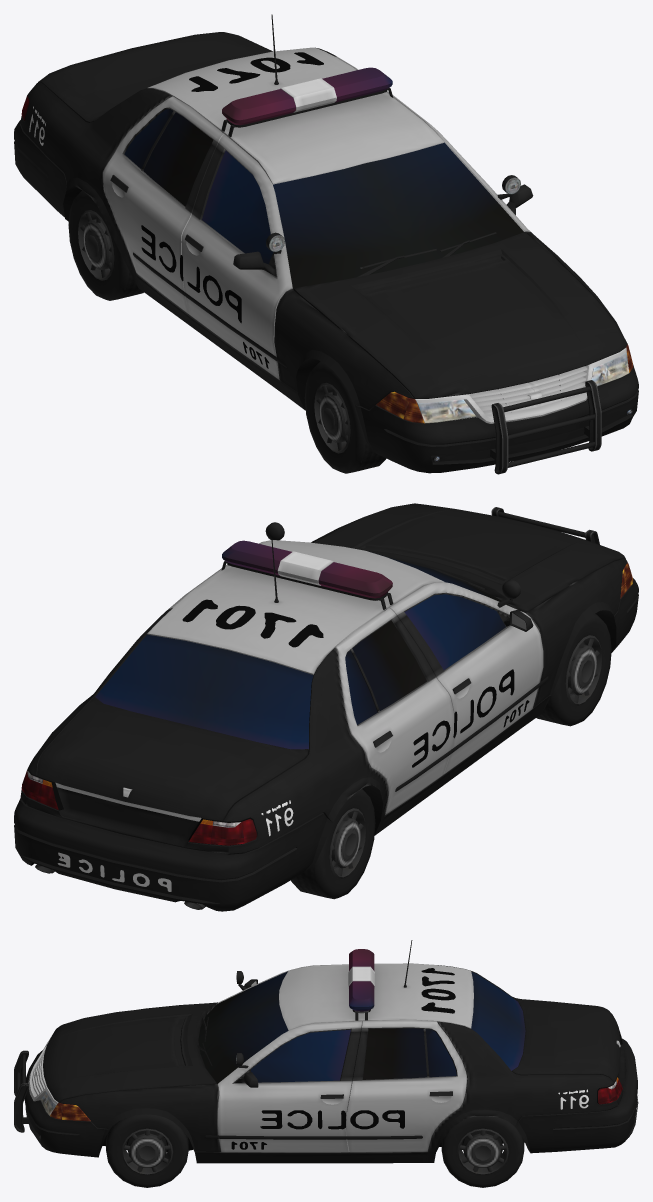
Rendered from police.glb.
The picture shows the model from 3 angles, top to bottom: view 1: azimuth 30°, elevation 25°; view 2: azimuth 150°, elevation 25°; view 3: azimuth 270°, elevation 25°; orthographic projection. The views are drawn at different scales.
Visible parts, largest first — view 1: police body, Front Right Wheel, Rear Right Wheel; view 2: police body, Rear Right Wheel, Front Right Wheel; view 3: police body, Front Left Wheel, Rear Left Wheel.
Part boxes in pixels (box(x1,y1,x2,y2)): police body: box(14, 14, 638, 474); Front Right Wheel: box(304, 361, 386, 473); Rear Right Wheel: box(68, 190, 143, 300); police body: box(14, 503, 638, 911); Rear Right Wheel: box(291, 789, 375, 899); Front Right Wheel: box(536, 614, 611, 726); police body: box(14, 940, 638, 1163); Front Left Wheel: box(106, 1114, 188, 1187); Rear Left Wheel: box(441, 1116, 524, 1187).
Bounding box in the file's own units: 2 × 1.88 × 5.17.
Materials: 1 (1 with a texture image).
